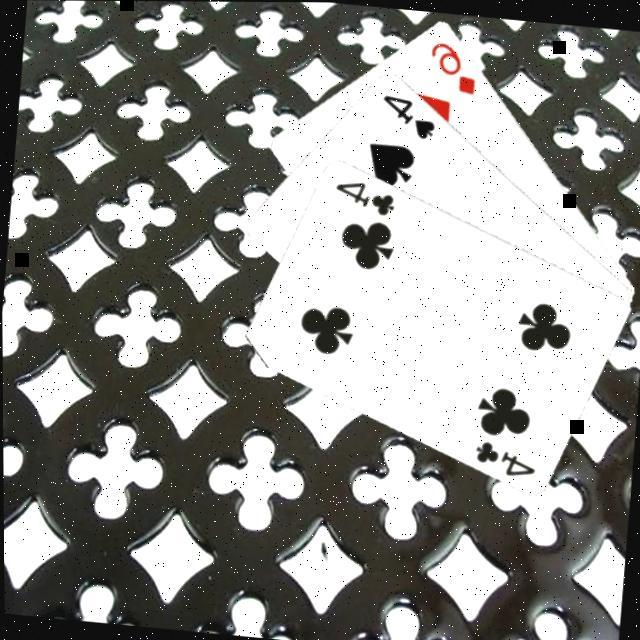4C: (470, 434, 541, 478), (331, 173, 400, 217)
4S: (378, 88, 442, 141)
6D: (425, 34, 484, 95)
